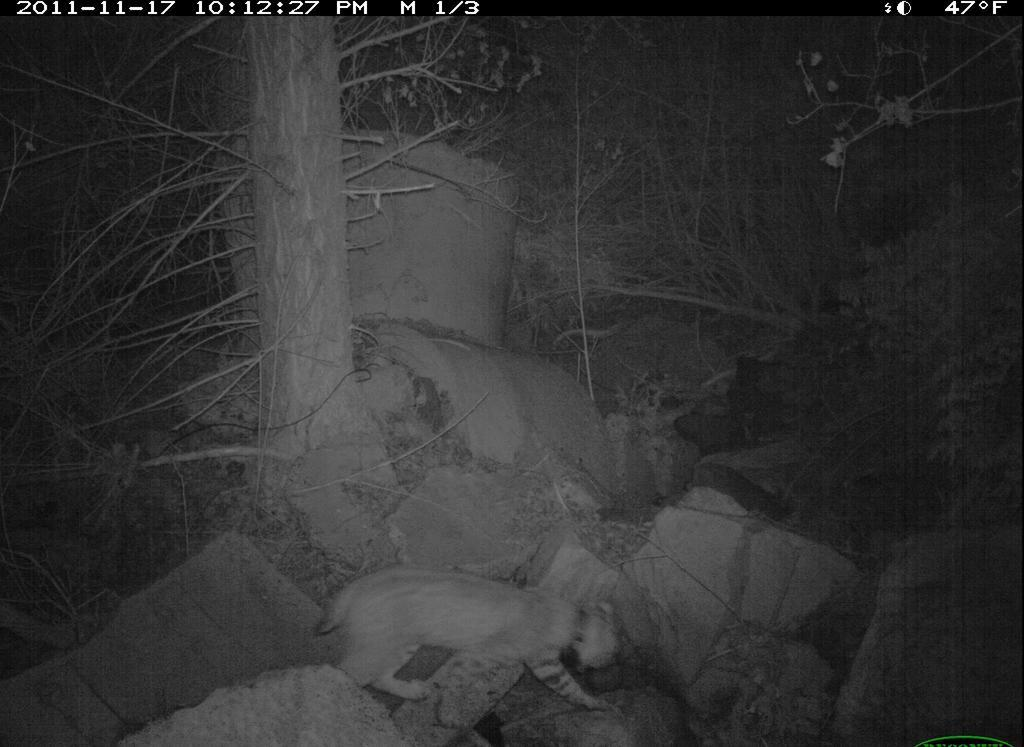bobcat: (314, 569, 637, 726)
